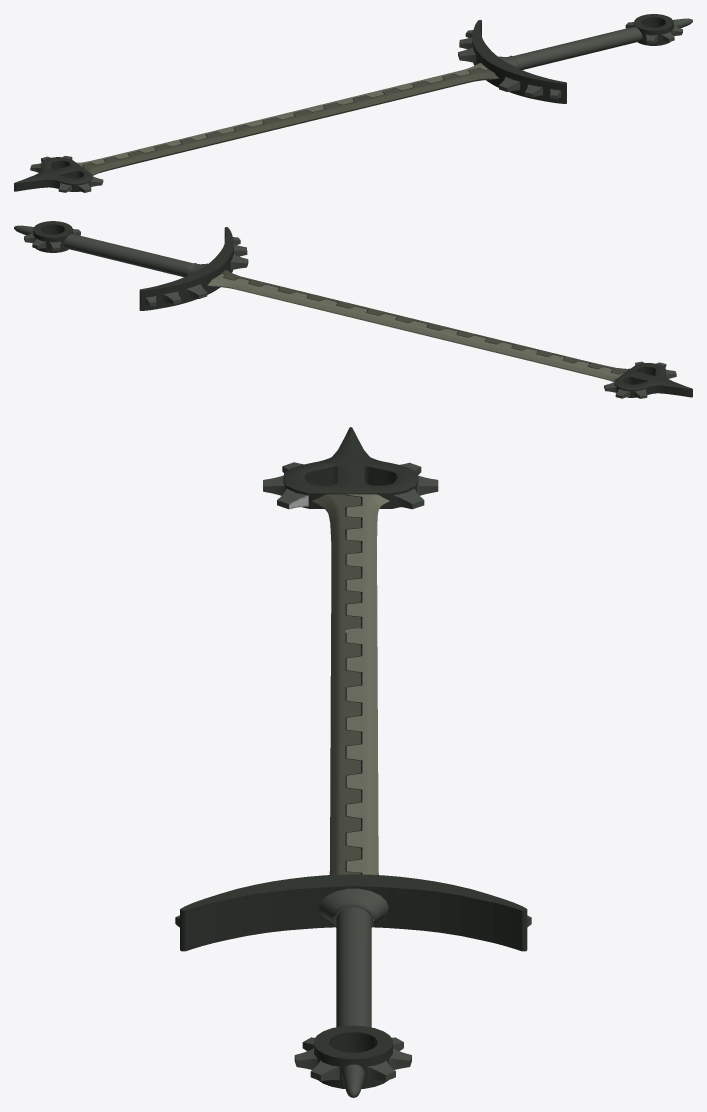
File: nox_s_sword_wakfu.glb
3 renders of one model, top to bottom at view 1: azimuth 30°, elevation 25°; view 2: azimuth 150°, elevation 25°; view 3: azimuth 270°, elevation 25°, orthographic. The views are drawn at different scales.
Parts seen in each view (by area): view 1: ESPADA__0; view 2: ESPADA__0; view 3: ESPADA__0.
Boxes of the visible parts, x1,y1,x2,y2 form: ESPADA__0: (14, 14, 692, 192); ESPADA__0: (14, 221, 692, 398); ESPADA__0: (175, 427, 531, 1097).
Size of the model in its own units: 597 by 17.08 by 136.
Materials: 1 (1 with a texture image).
